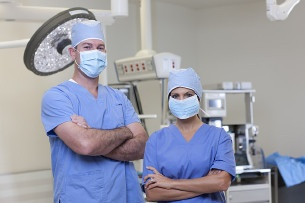Mask: (74, 39, 113, 78)
